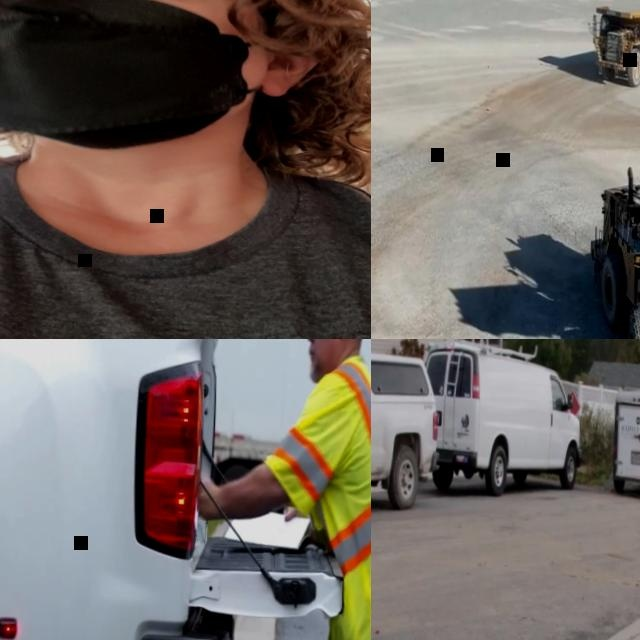Mask: (0, 0, 301, 154)
NO-Mask: (307, 339, 341, 375)
NO-Safety Vest: (0, 148, 371, 339)
Person: (0, 0, 371, 339), (187, 339, 371, 640)
Safety Vest: (264, 354, 371, 583)
machinery: (584, 158, 640, 339), (587, 5, 640, 85)
vehicle: (0, 339, 355, 640), (419, 339, 585, 496), (371, 342, 441, 510)
